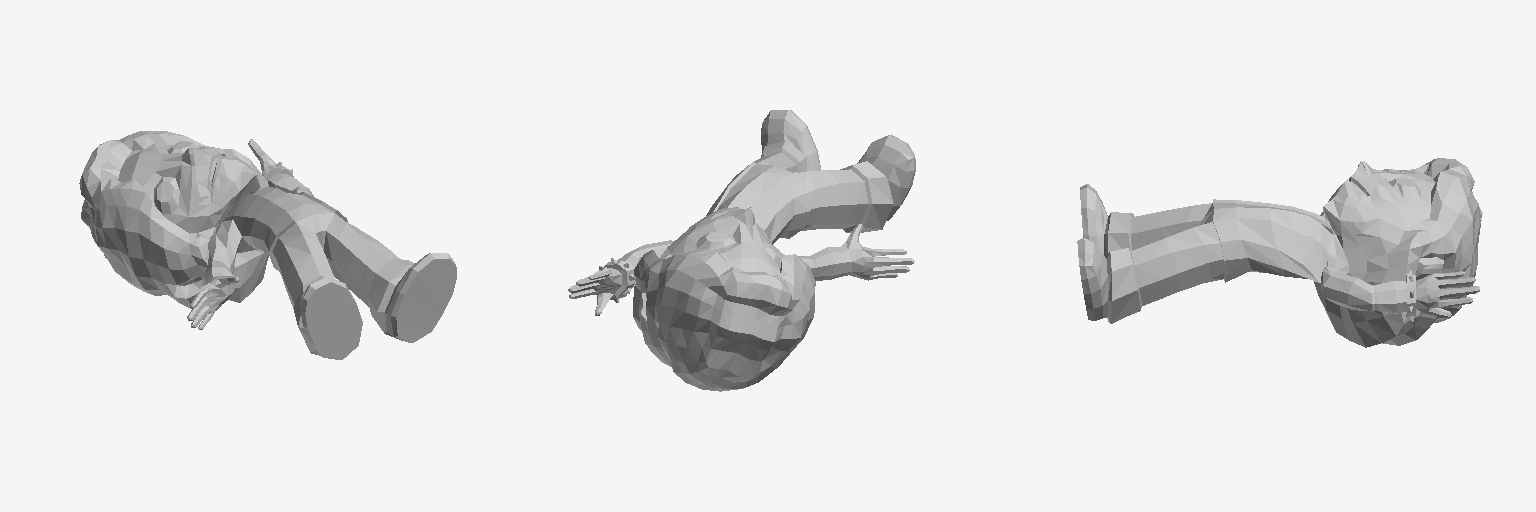
The model's file is rockero_rigging_000120.obj.
The picture shows the model from 3 angles: view 1: azimuth 30°, elevation 25°; view 2: azimuth 150°, elevation 25°; view 3: azimuth 270°, elevation 25°; orthographic projection.
Parts seen in each view (by area): view 1: Cylinder.001; view 2: Cylinder.001; view 3: Cylinder.001.
Part boxes in pixels (x1,y1,x2,y2): Cylinder.001: (79, 131, 456, 359); Cylinder.001: (568, 110, 915, 391); Cylinder.001: (1077, 158, 1482, 347).
Bounding box in the file's own units: 2.75 × 2.04 × 4.49.